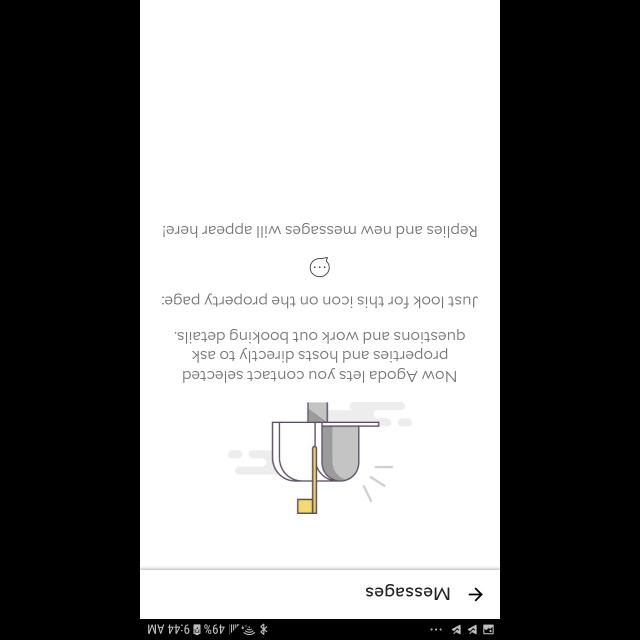icon: (309, 256, 329, 278), (468, 587, 482, 601)
image: (228, 402, 412, 514)
text: (174, 329, 466, 383), (163, 222, 477, 238), (162, 294, 478, 308), (366, 584, 450, 600)
uppertaskbar: (140, 618, 500, 640)
